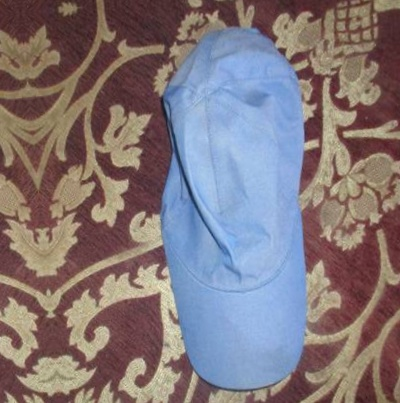Hat: (128, 0, 367, 396)
